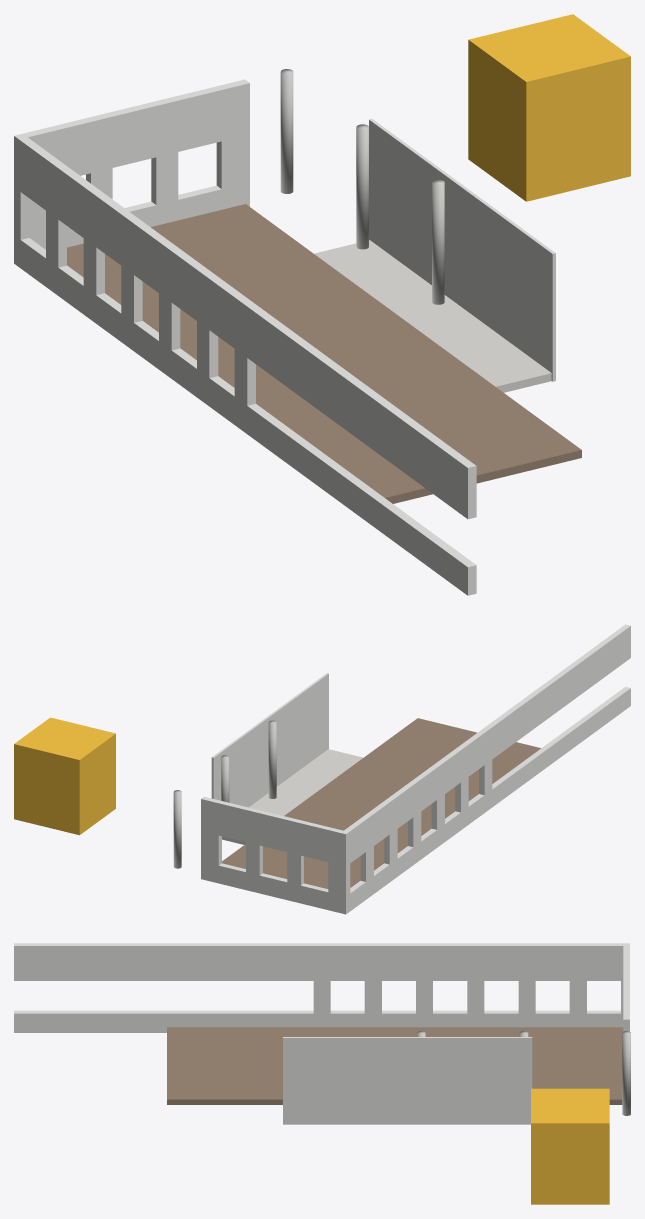
Rendered from SM_Bygg_Helgasetr_P1_V_MS.fbx.
3 renders of one model, top to bottom at view 1: azimuth 30°, elevation 25°; view 2: azimuth 150°, elevation 25°; view 3: azimuth 270°, elevation 25°, orthographic. The views are drawn at different scales.
Visible parts, largest first — view 1: SM_Bygg_Helgasetr_P1_V_MS; view 2: SM_Bygg_Helgasetr_P1_V_MS; view 3: SM_Bygg_Helgasetr_P1_V_MS.
Part boxes in pixels (bbox=[...]): SM_Bygg_Helgasetr_P1_V_MS: bbox=[14, 14, 630, 595]; SM_Bygg_Helgasetr_P1_V_MS: bbox=[14, 624, 630, 914]; SM_Bygg_Helgasetr_P1_V_MS: bbox=[14, 943, 630, 1204].
Bounding box in the file's own units: 36.11 × 24.95 × 5.6.
